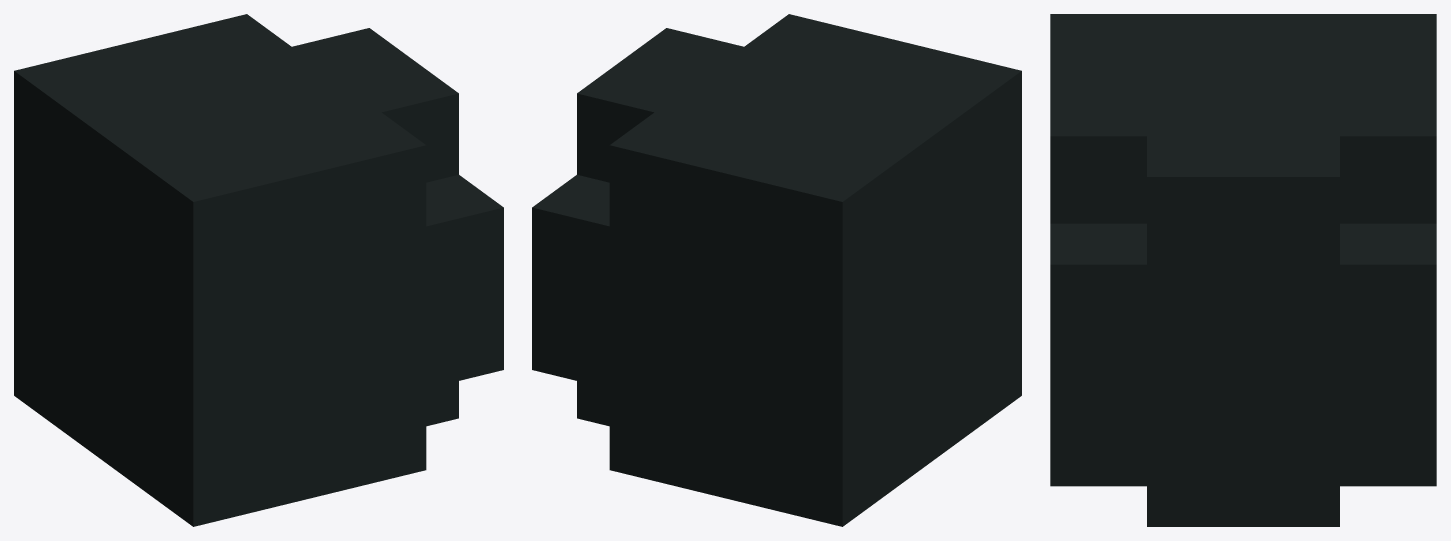
File: can_big-3.fbx
3 renders of one model, left to right at view 1: azimuth 30°, elevation 25°; view 2: azimuth 150°, elevation 25°; view 3: azimuth 270°, elevation 25°, orthographic. The views are drawn at different scales.
Visible parts, largest first — view 1: can_big-3.001; view 2: can_big-3.001; view 3: can_big-3.001.
Part boxes in pixels (<box>): can_big-3.001: <box>14,14,503,526</box>; can_big-3.001: <box>532,14,1021,526</box>; can_big-3.001: <box>1050,14,1436,526</box>.
Size of the model in its own units: 0.4 by 0.4 by 0.4.
Materials: 1 (1 with a texture image).
